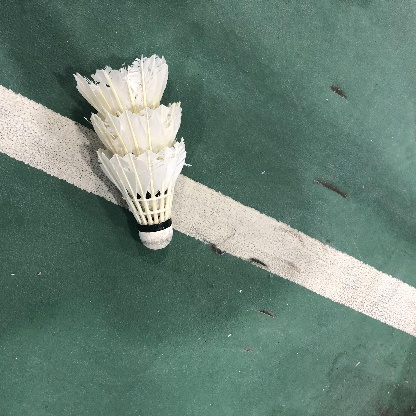ball_single: (73, 54, 187, 249)
